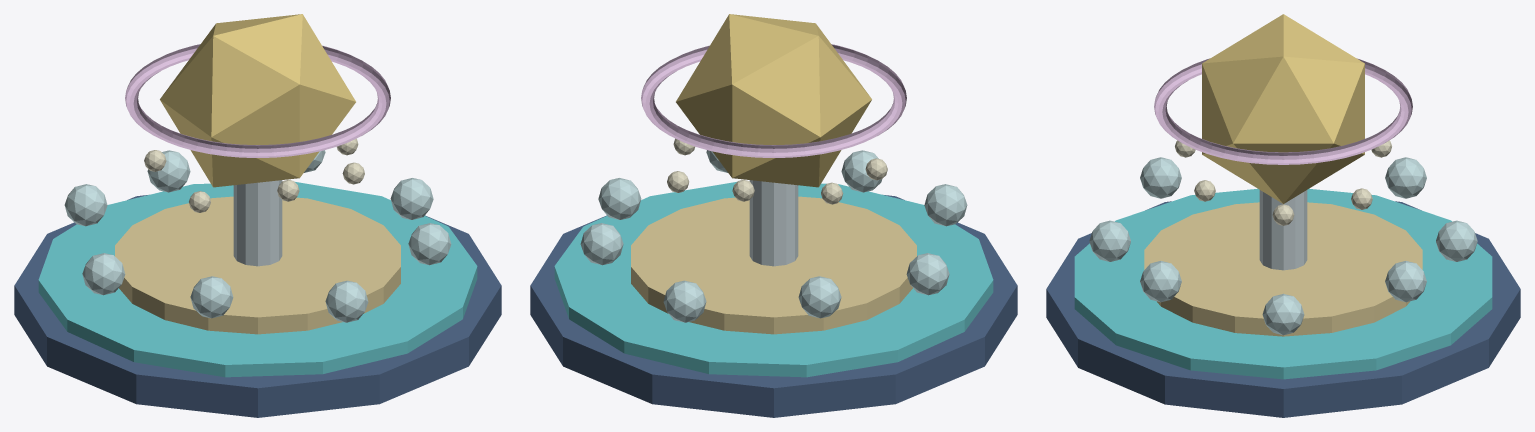
The model's file is sunrise_fountain.gltf.
The picture shows the model from 3 angles, left to right: view 1: azimuth 30°, elevation 25°; view 2: azimuth 150°, elevation 25°; view 3: azimuth 270°, elevation 25°; orthographic projection. The views are drawn at different scales.
Parts seen in each view (by area): view 1: water_terrace, inner_rim, midnight_pedestal, sunrise_crystal, crown_ring, spindle, droplet_5, droplet_3, droplet_2, droplet_0, droplet_1, droplet_4 (+1 smaller); view 2: water_terrace, inner_rim, midnight_pedestal, sunrise_crystal, crown_ring, spindle, droplet_3, droplet_5, droplet_6, droplet_0, droplet_7, droplet_4 (+1 smaller); view 3: water_terrace, inner_rim, midnight_pedestal, sunrise_crystal, crown_ring, spindle, droplet_0, droplet_2, droplet_3, droplet_5, droplet_6, droplet_1 (+1 smaller).
Part boxes in pixels (x1,y1,x2,y2): water_terrace: (38,182,477,377); inner_rim: (115,196,400,334); midnight_pedestal: (14,195,501,417); sunrise_crystal: (160,14,355,187); crown_ring: (125,44,390,157); spindle: (233,180,282,266); droplet_5: (64,184,107,226); droplet_3: (190,276,233,318); droplet_2: (325,280,368,322); droplet_0: (390,178,433,219); droplet_1: (408,223,451,265); droplet_4: (82,253,125,295); water_terrace: (554,182,993,377); inner_rim: (631,196,916,334); midnight_pedestal: (530,195,1017,417); sunrise_crystal: (676,14,871,187); crown_ring: (641,44,906,157); spindle: (749,180,798,266); droplet_3: (924,184,967,226); droplet_5: (798,276,841,318); droplet_6: (663,280,706,322); droplet_0: (598,178,641,219); droplet_7: (580,223,623,265); droplet_4: (906,253,949,295); water_terrace: (1074,188,1492,379); inner_rim: (1144,202,1422,336); midnight_pedestal: (1046,201,1520,417); sunrise_crystal: (1202,14,1364,203); crown_ring: (1154,58,1412,164); spindle: (1259,190,1307,270); droplet_0: (1262,293,1304,335); droplet_2: (1089,220,1130,261); droplet_3: (1140,157,1181,198); droplet_5: (1385,157,1426,198); droplet_6: (1436,220,1477,261); droplet_1: (1140,261,1181,302).
Bounding box in the file's own units: 5.2 × 3.42 × 5.2.
